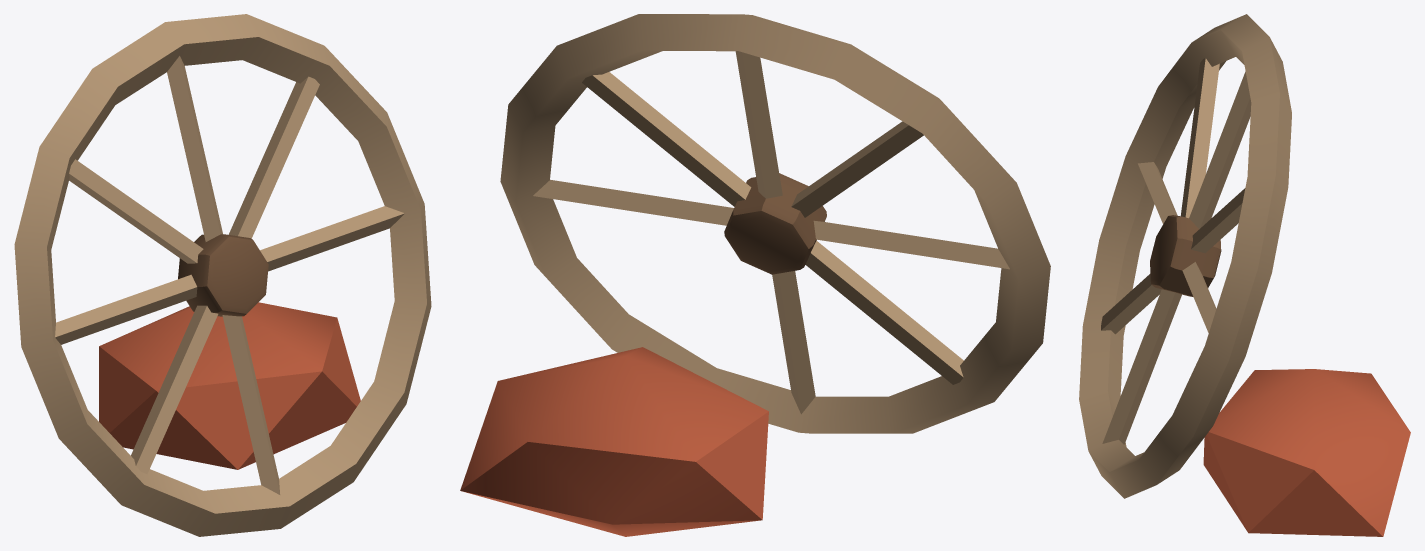
File: WagonWheel.fbx
3 renders of one model, left to right at view 1: azimuth 30°, elevation 25°; view 2: azimuth 150°, elevation 25°; view 3: azimuth 270°, elevation 25°, orthographic. The views are drawn at different scales.
Parts seen in each view (by area): view 1: WagonWheel; view 2: WagonWheel; view 3: WagonWheel.
Boxes of the visible parts, bbox=[...] form: WagonWheel: bbox=[14, 14, 431, 536]; WagonWheel: bbox=[460, 14, 1050, 536]; WagonWheel: bbox=[1079, 14, 1410, 536].
Size of the model in its own units: 1.34 by 1.35 by 0.9022.
